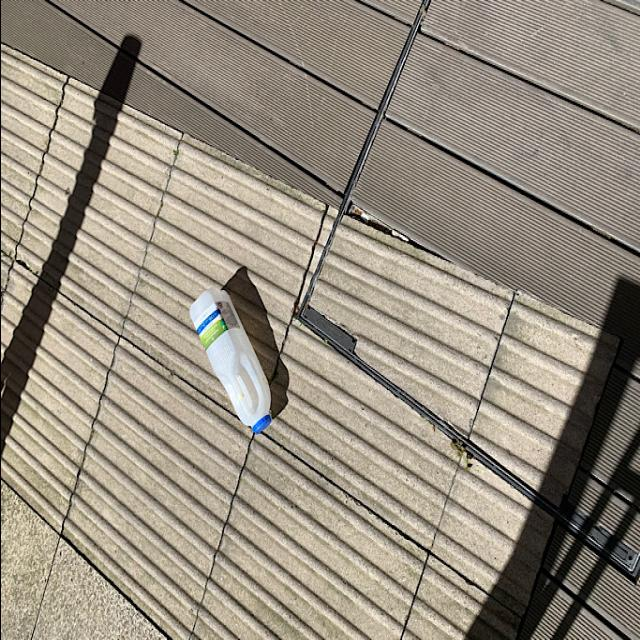HDPEM: (184, 286, 276, 436)
